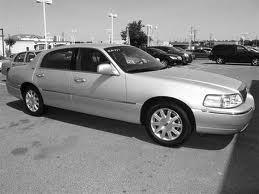car: (7, 43, 257, 147)
